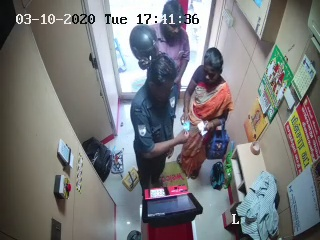helmet: (128, 23, 163, 64)
